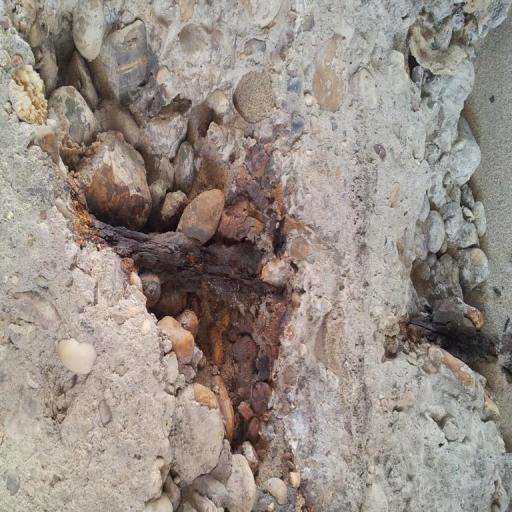spalling: (36, 121, 317, 483)
